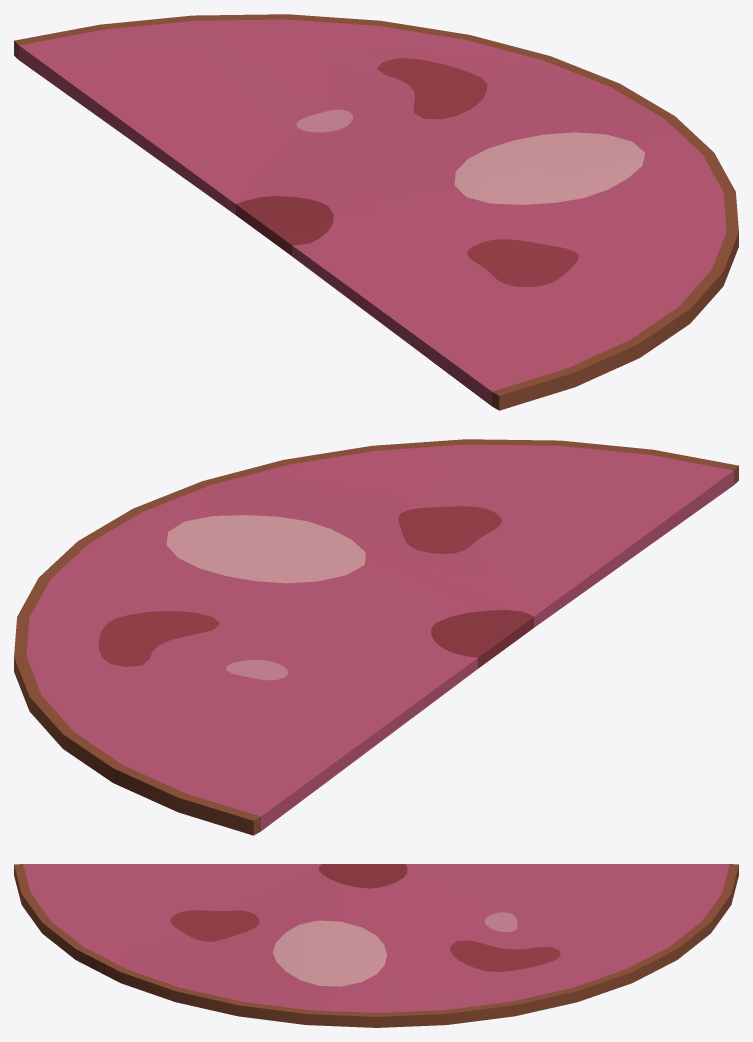
Rendered from Ham Slice B.fbx.
3 renders of one model, top to bottom at view 1: azimuth 30°, elevation 25°; view 2: azimuth 150°, elevation 25°; view 3: azimuth 270°, elevation 25°, orthographic. The views are drawn at different scales.
Parts seen in each view (by area): view 1: Ham Slice B; view 2: Ham Slice B; view 3: Ham Slice B.
Boxes of the visible parts, left/top/right/bottom form: Ham Slice B: left=14, top=14, right=738, bottom=410; Ham Slice B: left=14, top=439, right=738, bottom=835; Ham Slice B: left=14, top=864, right=738, bottom=1027.
Bounding box in the file's own units: 0.1964 × 0.0139 × 0.3936.
